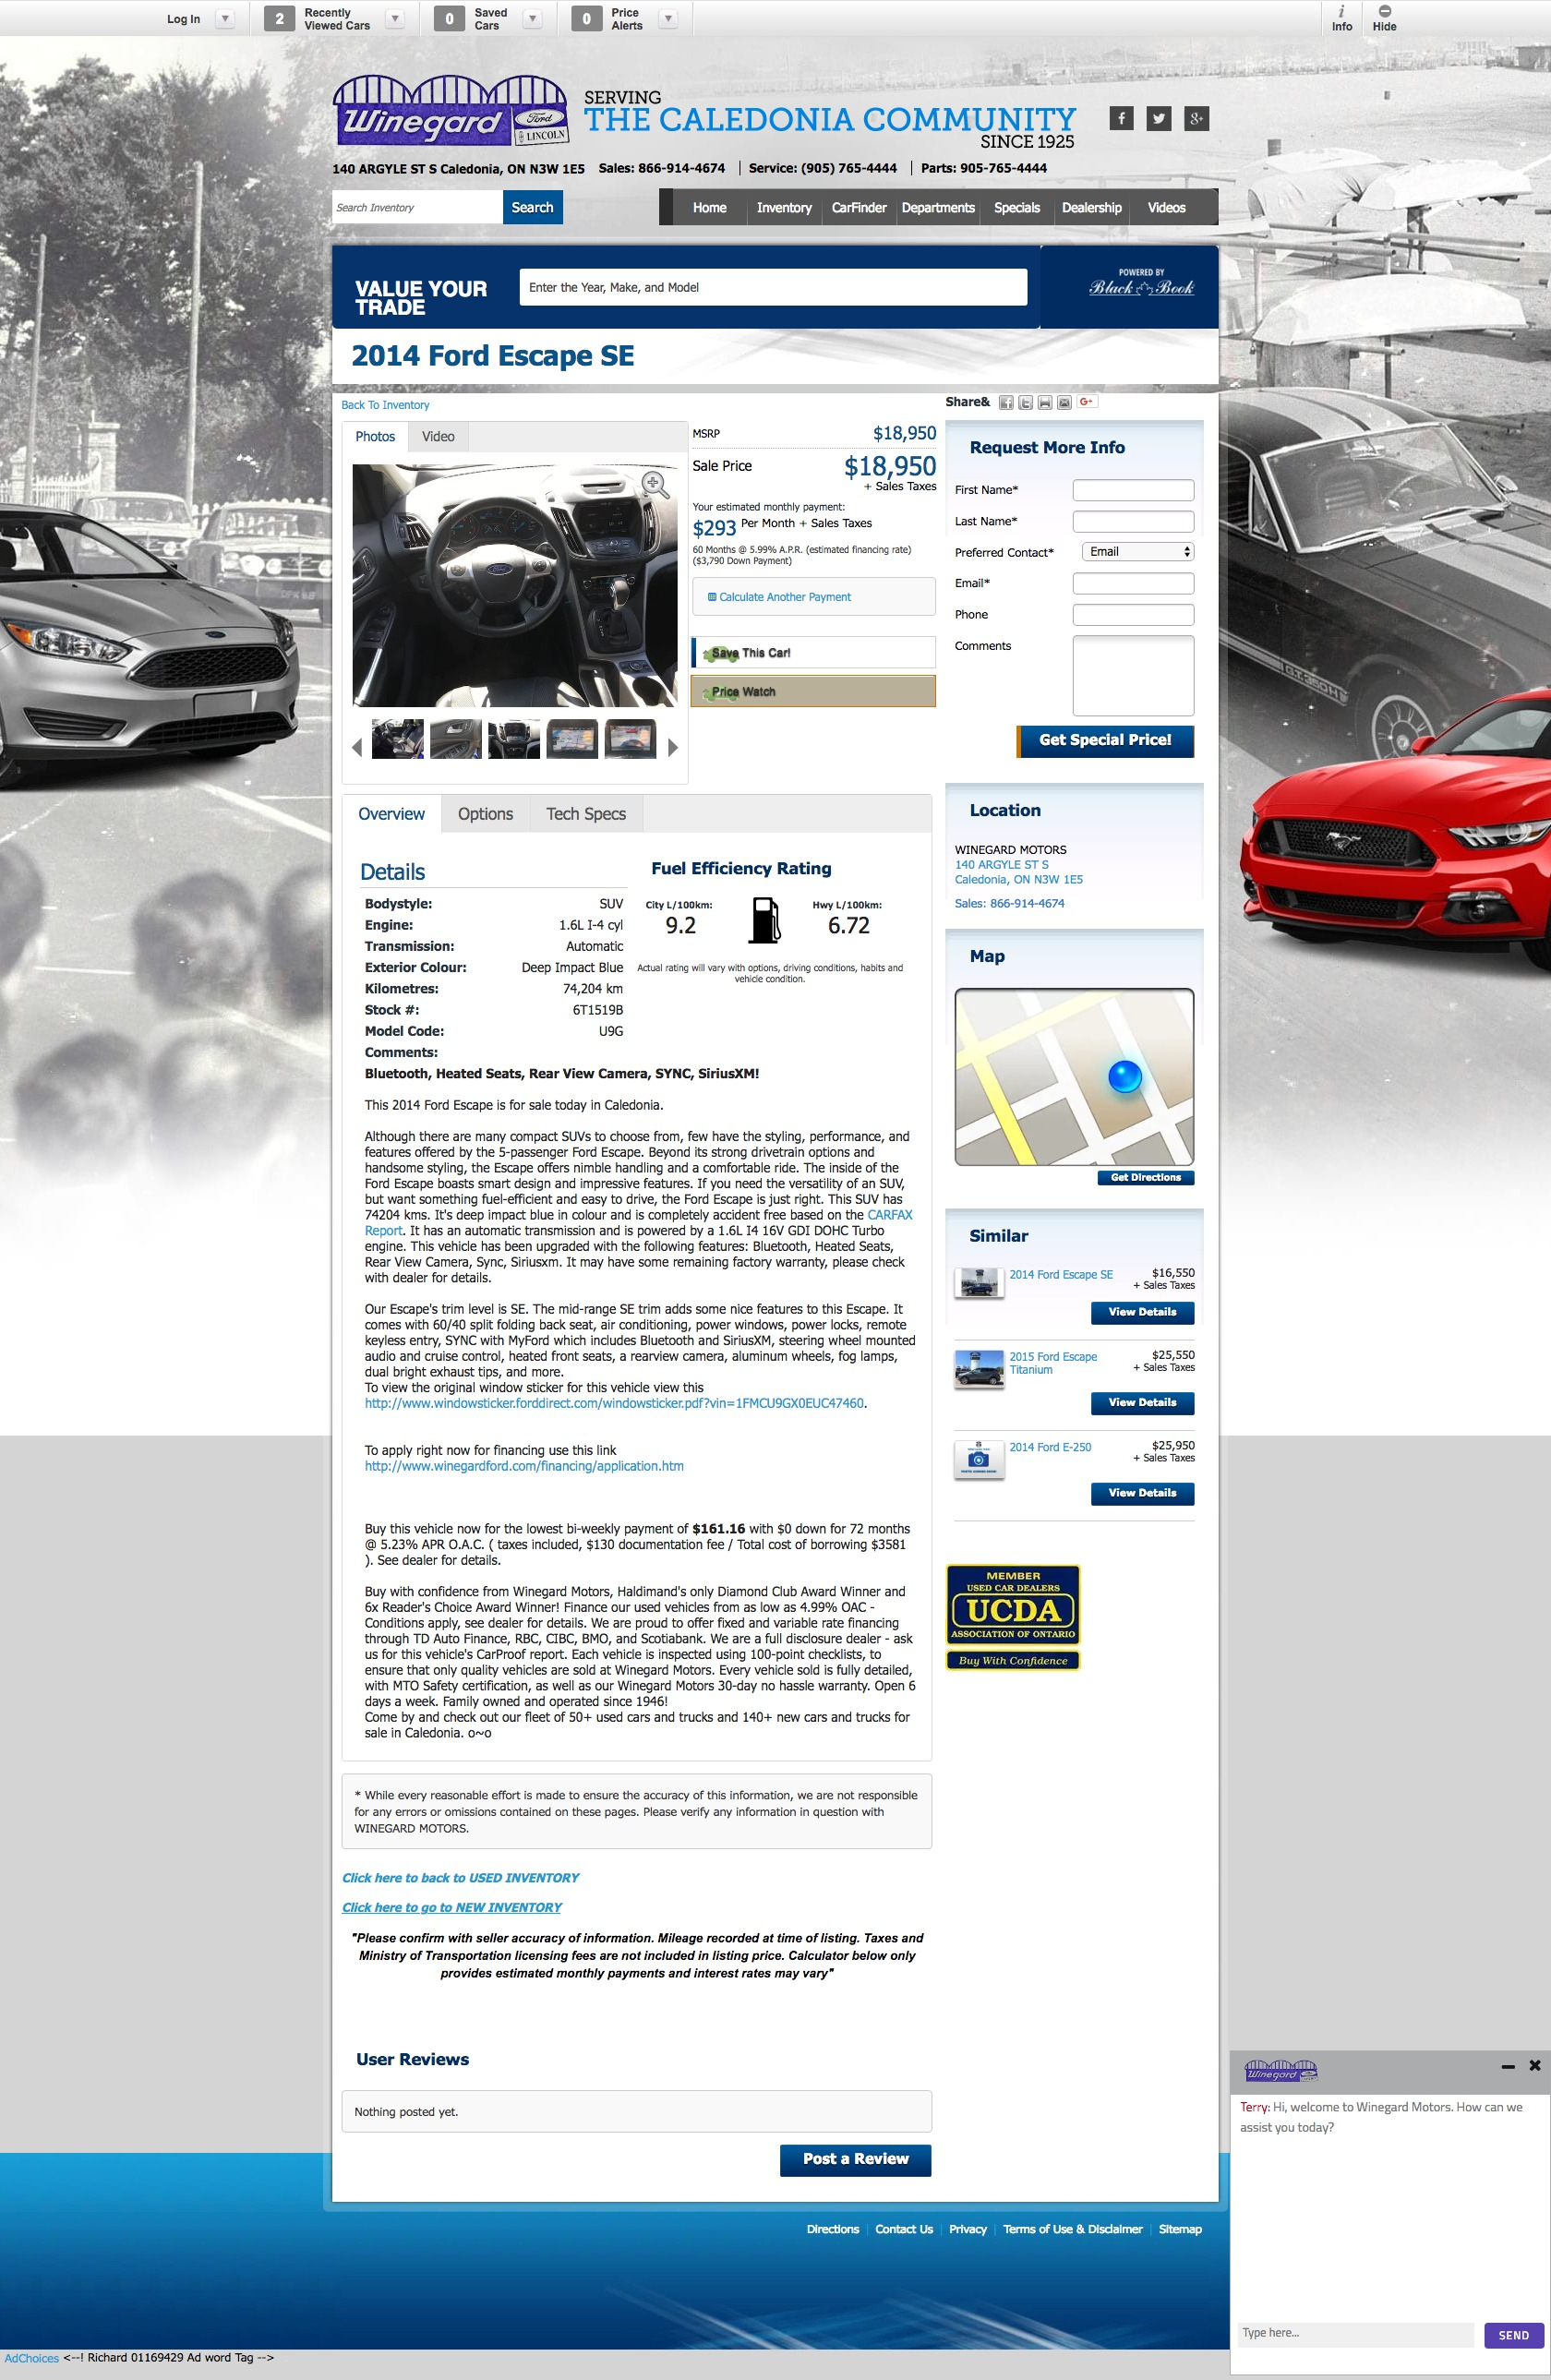car: (668, 737, 680, 758)
